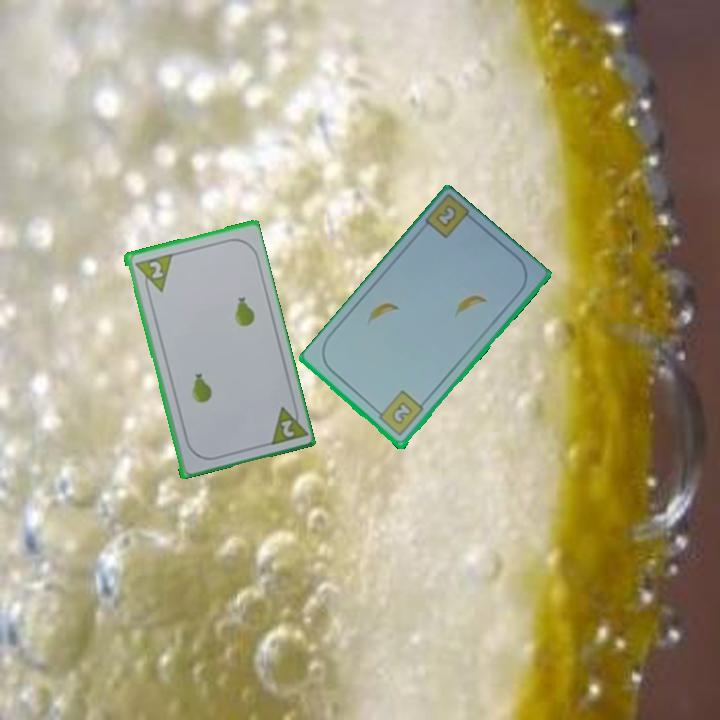2b: (372, 387, 426, 439), (434, 204, 458, 228)
2p: (264, 399, 308, 448), (145, 257, 165, 281)
